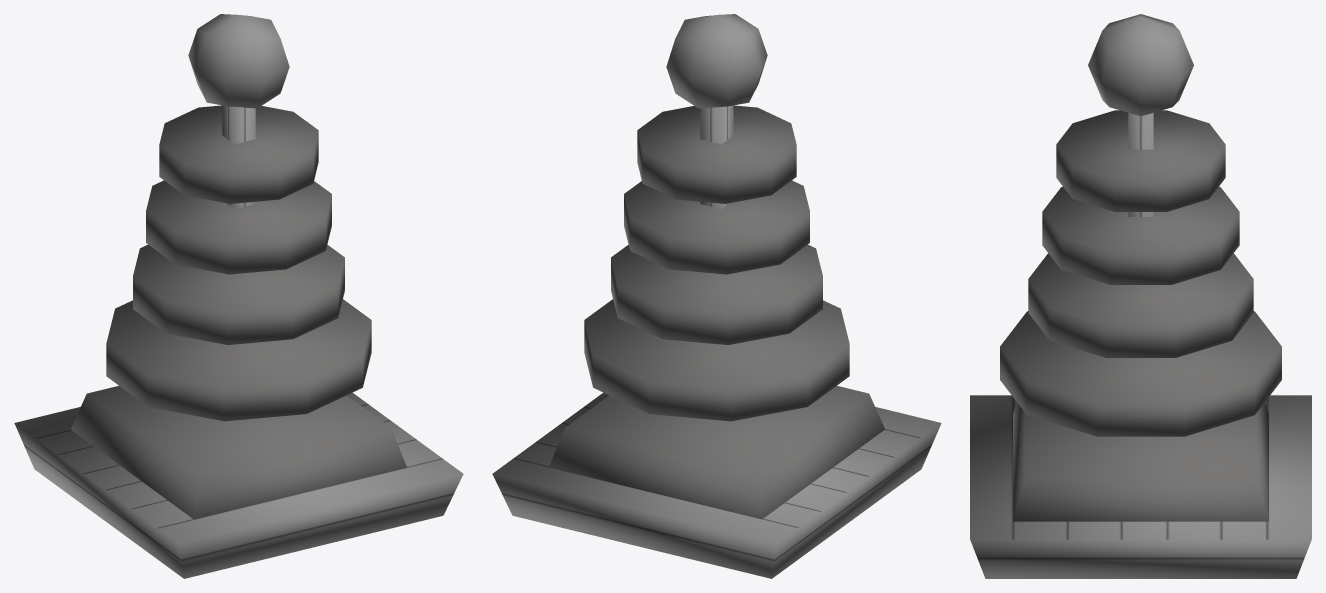
Rendered from Electrodos.fbx.
3 renders of one model, left to right at view 1: azimuth 30°, elevation 25°; view 2: azimuth 150°, elevation 25°; view 3: azimuth 270°, elevation 25°, orthographic. The views are drawn at different scales.
Visible parts, largest first — view 1: Cylinder, base, Cube.001, Cube.003; view 2: Cylinder, base, Cube.001, Cube.003; view 3: Cylinder, base, Cube.001, Cube.003.
Boxes of the visible parts, x1=… form: Cylinder: x1=106, y1=105, x2=371, y2=421; base: x1=14, y1=386, x2=463, y2=578; Cube.001: x1=188, y1=14, x2=289, y2=108; Cube.003: x1=222, y1=105, x2=255, y2=208; Cylinder: x1=584, y1=105, x2=849, y2=421; base: x1=492, y1=386, x2=941, y2=578; Cube.001: x1=666, y1=14, x2=767, y2=108; Cube.003: x1=700, y1=105, x2=733, y2=208; Cylinder: x1=1000, y1=110, x2=1281, y2=436; base: x1=970, y1=395, x2=1311, y2=578; Cube.001: x1=1088, y1=14, x2=1193, y2=116; Cube.003: x1=1128, y1=113, x2=1153, y2=216.
Size of the model in its own units: 1.14 by 1.82 by 1.14.
